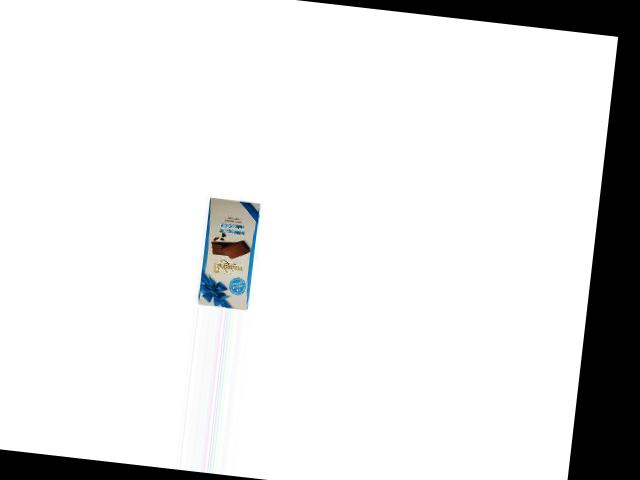chocolate: (190, 194, 264, 311)
